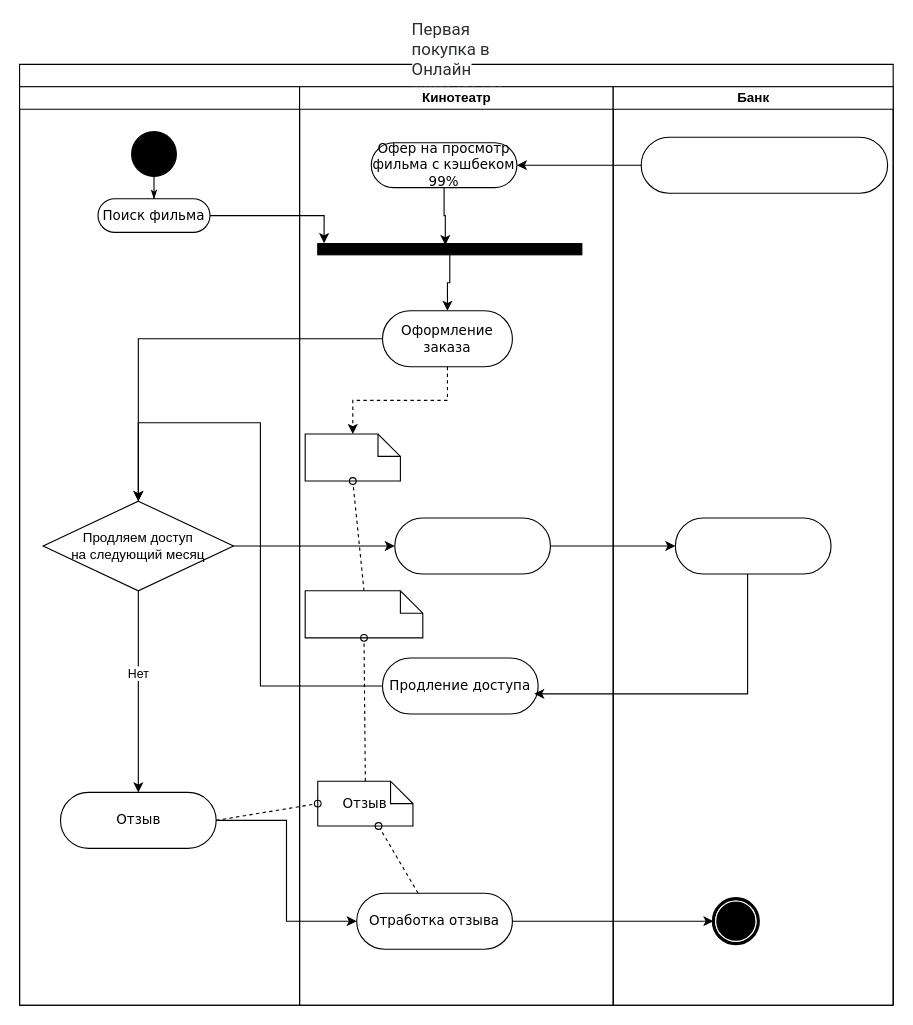
The diagram is 913 pixels wide and 1025 high, and some of its shapes have lost their labels. The shapes that lost their labels are listed below. From the top down, each one's box as (x1, y1, x2, y2) in pixels, then its label:
(640, 136, 888, 193): Договорённость с банком о 99% кэшбеке в обмен на будущующий платёж
(304, 433, 400, 481): Первый заказ
(18, 86, 300, 1005): Клиент
(394, 517, 550, 574): Принятия оплаты 2го месяца
(674, 517, 831, 574): Принятие % от оплаты
(304, 590, 423, 638): Последующий заказ
